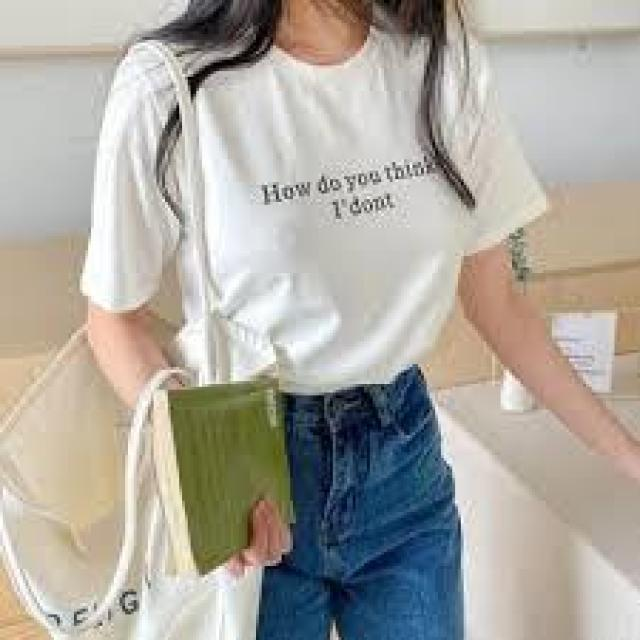Tshirt: (77, 16, 560, 397)
